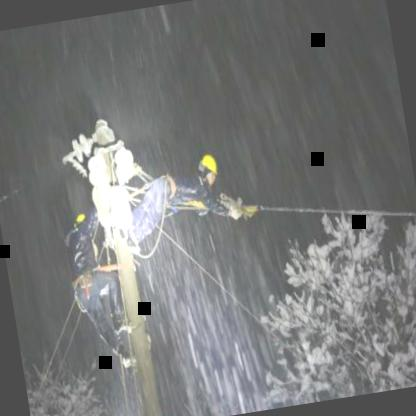helmet: (190, 149, 223, 191), (71, 208, 94, 243)
